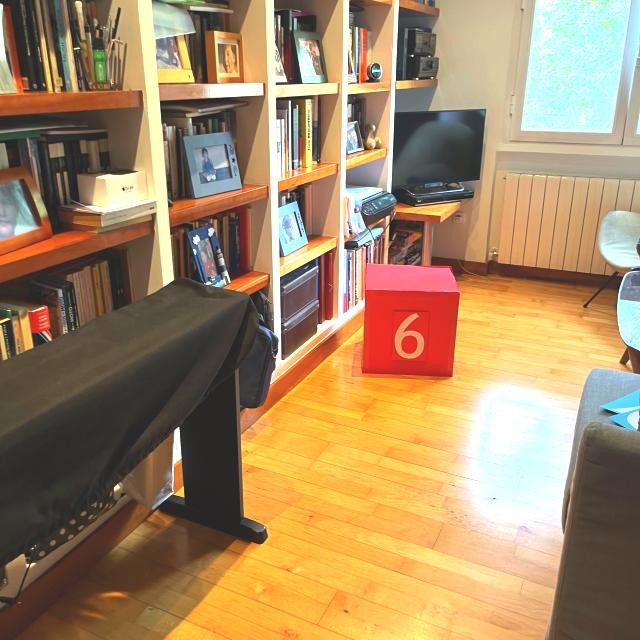box: (358, 258, 463, 380)
